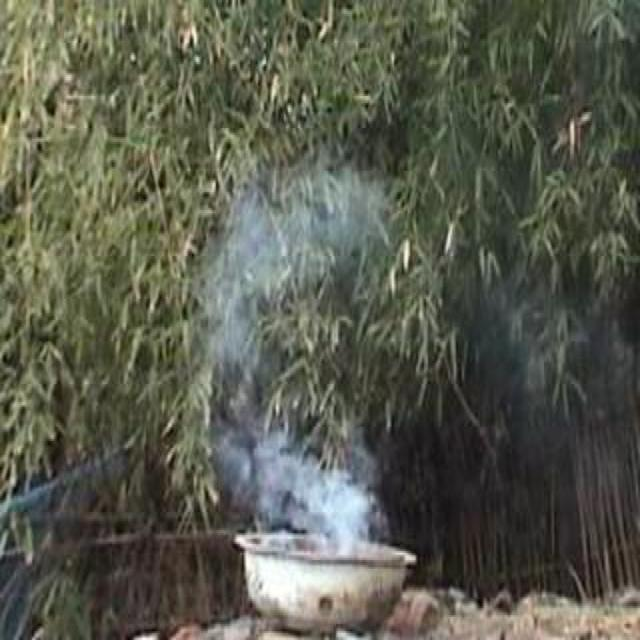Smoke: (204, 158, 392, 558)
